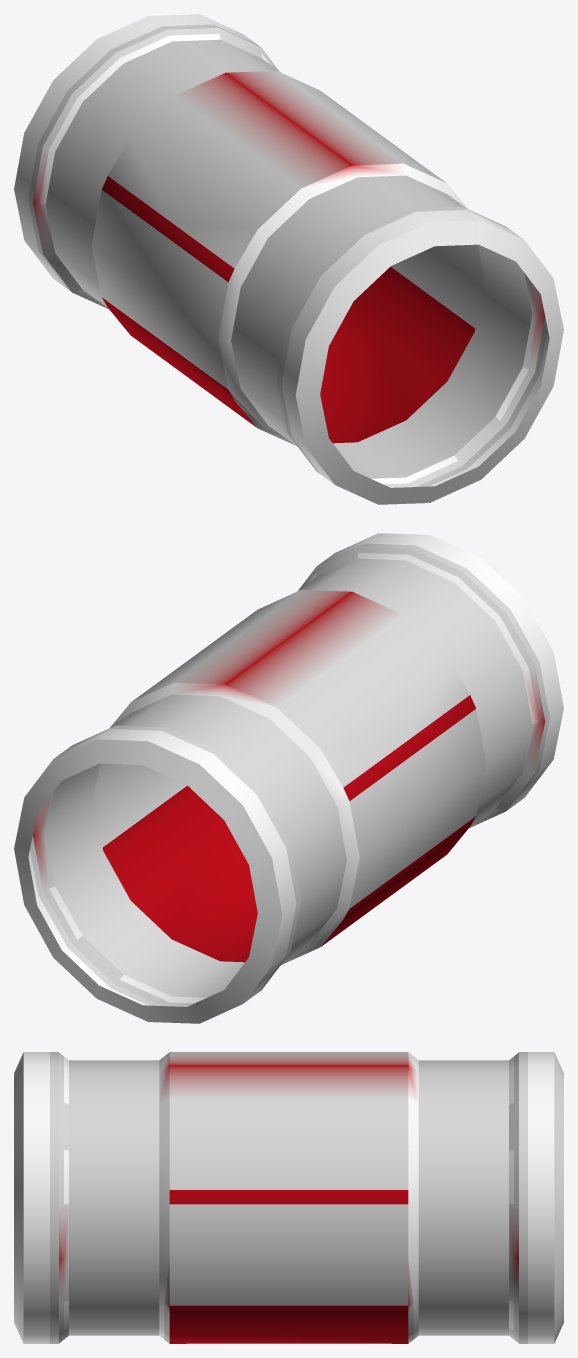
The model's file is part_main-lod0.dae.
3 views of the same model, one above another, from view 1: azimuth 30°, elevation 25°; view 2: azimuth 150°, elevation 25°; view 3: azimuth 270°, elevation 25° (orthographic). The views are drawn at different scales.
Visible parts, largest first — view 1: part_main-lod0Xlod0Xp2genericXgen_p2_hulltexture_02_c, part_main-lod0Xlod0Xp2genericXgen_p2_hulltextureaged_02_a; view 2: part_main-lod0Xlod0Xp2genericXgen_p2_hulltexture_02_c, part_main-lod0Xlod0Xp2genericXgen_p2_hulltextureaged_02_a; view 3: part_main-lod0Xlod0Xp2genericXgen_p2_hulltexture_02_c, part_main-lod0Xlod0Xp2genericXgen_p2_hulltextureaged_02_a.
Boxes of the visible parts, x1=… form: part_main-lod0Xlod0Xp2genericXgen_p2_hulltexture_02_c: x1=28, y1=24, x2=547, y2=487; part_main-lod0Xlod0Xp2genericXgen_p2_hulltextureaged_02_a: x1=14, y1=14, x2=563, y2=504; part_main-lod0Xlod0Xp2genericXgen_p2_hulltexture_02_c: x1=30, y1=543, x2=549, y2=1006; part_main-lod0Xlod0Xp2genericXgen_p2_hulltextureaged_02_a: x1=14, y1=533, x2=563, y2=1023; part_main-lod0Xlod0Xp2genericXgen_p2_hulltexture_02_c: x1=50, y1=1052, x2=527, y2=1343; part_main-lod0Xlod0Xp2genericXgen_p2_hulltextureaged_02_a: x1=14, y1=1052, x2=563, y2=1343.
Size of the model in its own units: 4.4 by 4.4 by 8.29.
